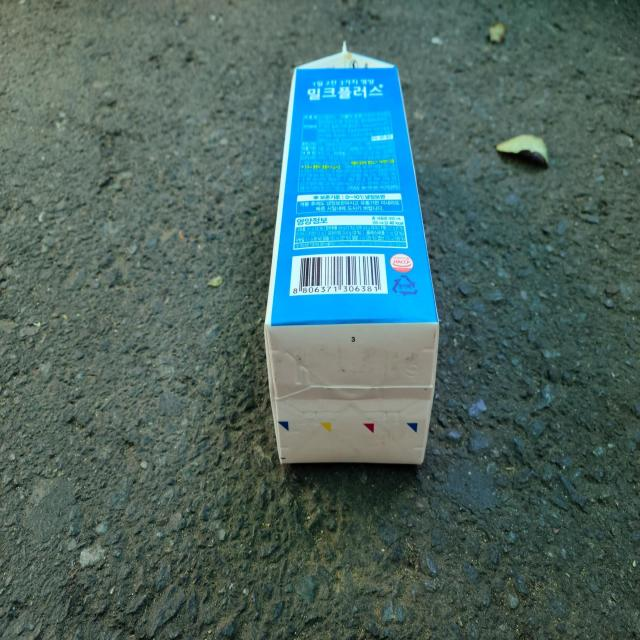paperpack: (265, 42, 440, 464)
